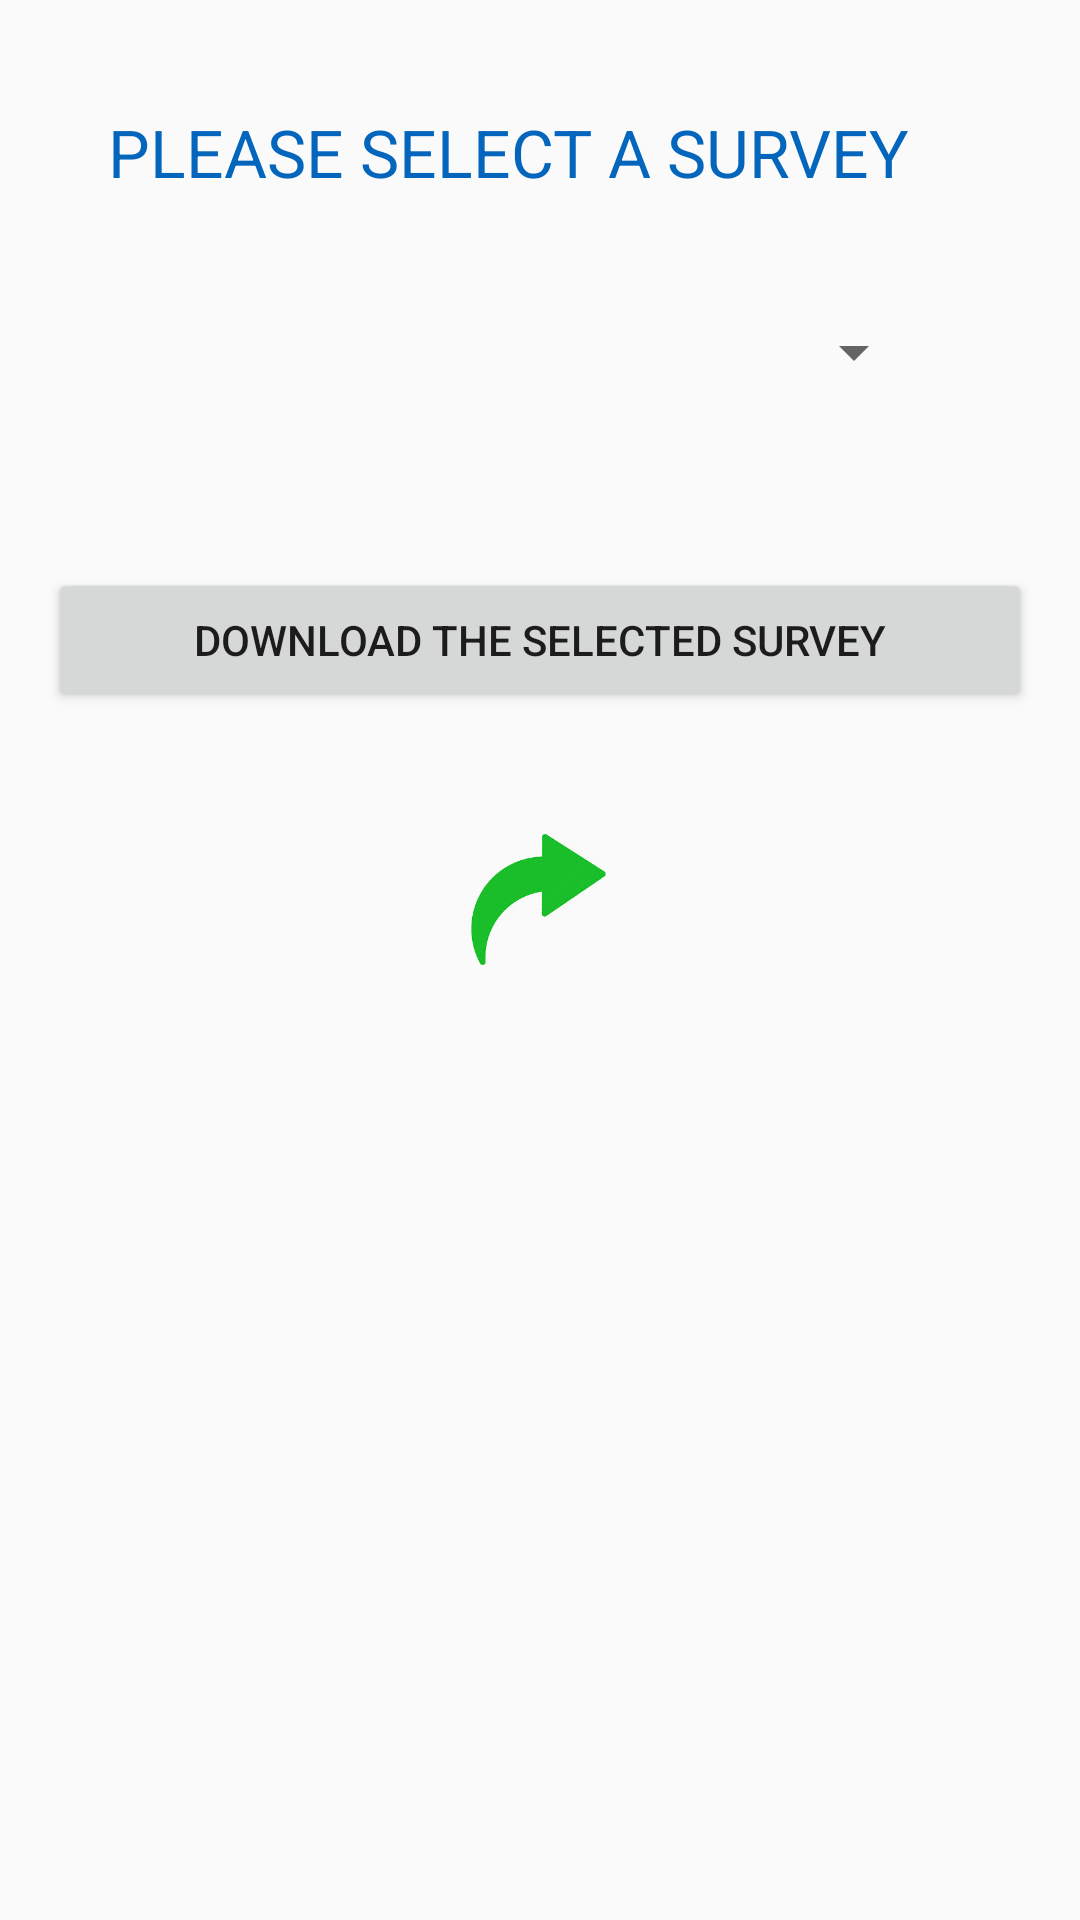

Locate icon controls on the screen. Image size 1080*1920, boxes as box(x1, y1, x2, y2).
forwardqq: box(471, 833, 606, 965)
